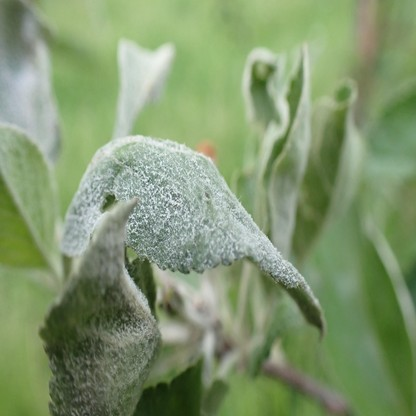powdery_mildew: (59, 135, 309, 290), (49, 199, 163, 416), (117, 37, 176, 138)
